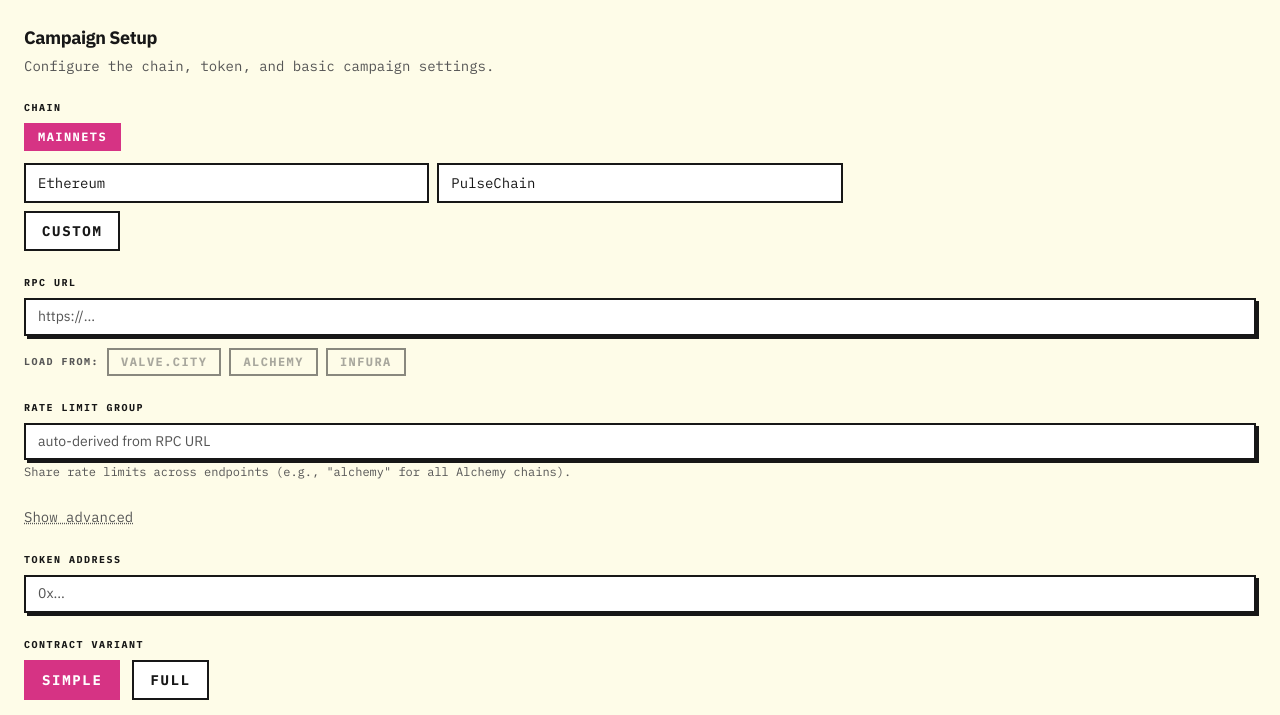
Scenario: CampaignStep › shows chain ID and chain name inputs when Custom is clicked
This screenshot has width=1280, height=715.
Click the button "Custom".
click(72, 231)  # box top-left (24, 211), bottom-right (120, 251)
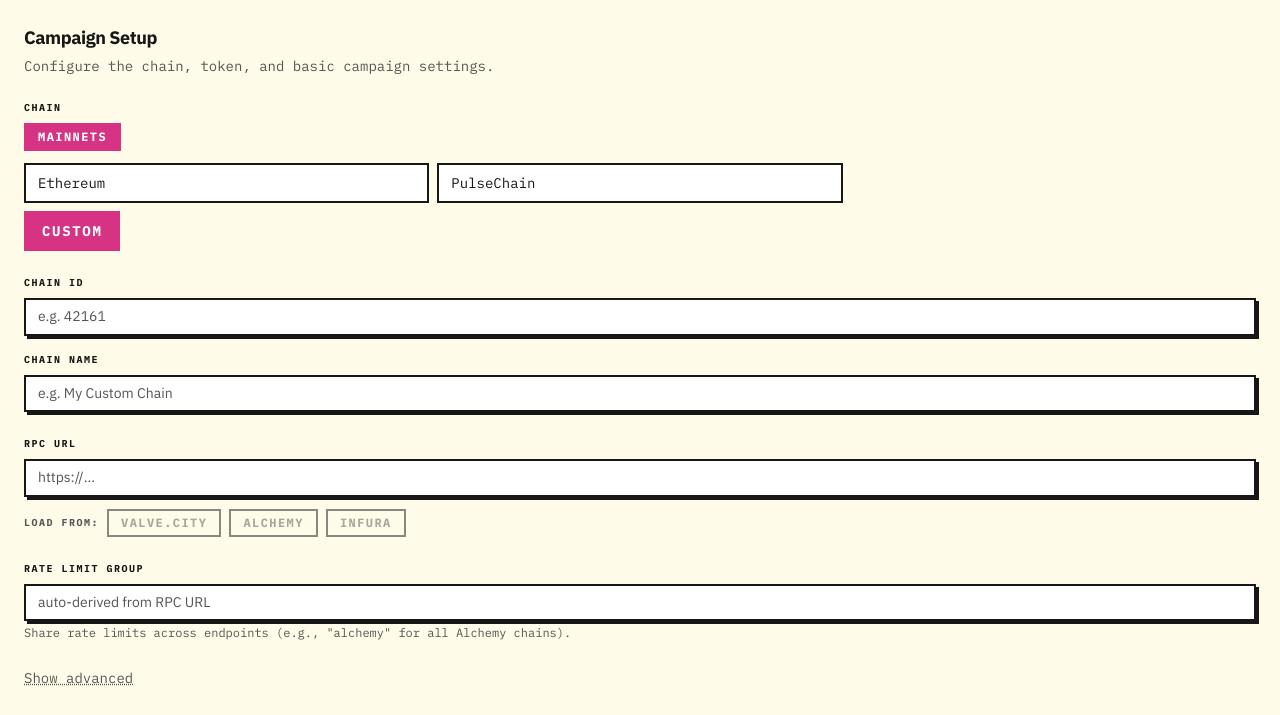
Expected: the number field with placeholder "e.g. 42161" is shown, top-left (24, 298), bottom-right (1256, 336)
Expected: the field with placeholder "e.g. My Custom Chain" is shown, top-left (24, 374), bottom-right (1256, 412)
